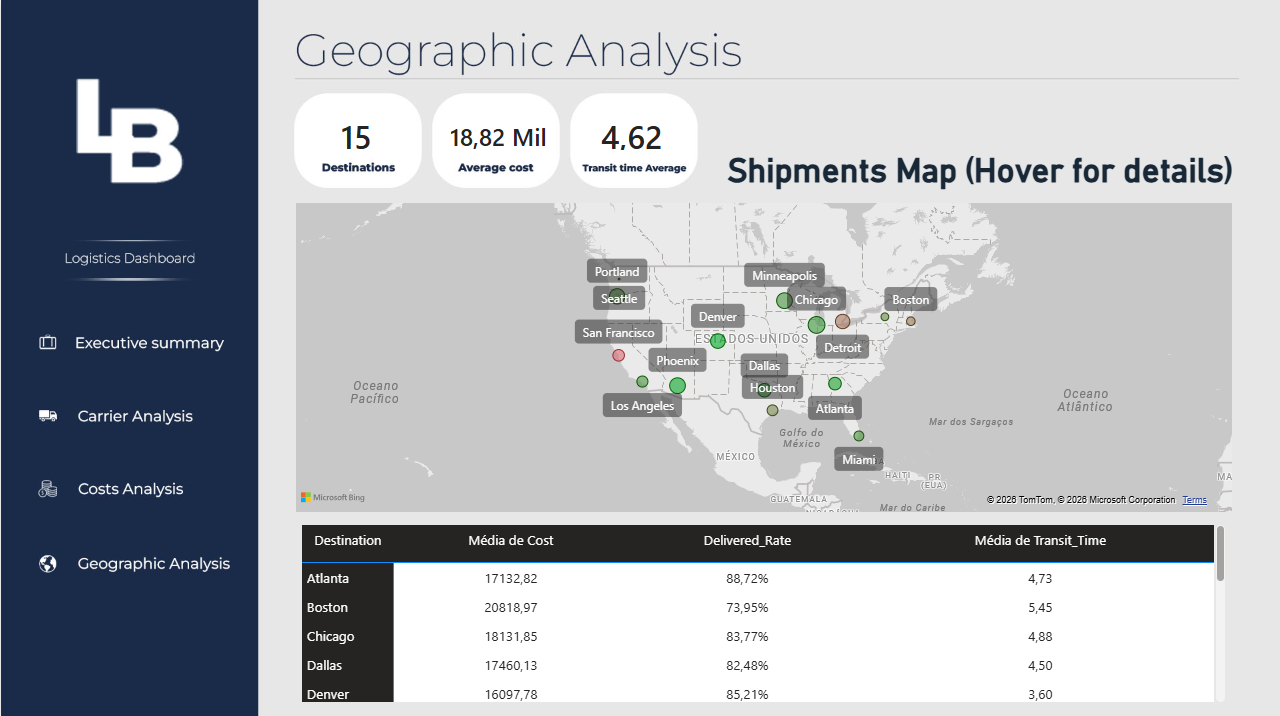

The dashboard page shown, as its layout file describes it:
{"tool":"powerbi","page":{"name":"Geographic Analysis","canvas":[1280,720],"ordinal":3},"visuals":[{"type":"map","fields":{"Category":["logistics_shipments_dataset.Destination"],"Size":["CountNonNull(logistics_shipments_dataset.Shipment_ID)"]},"box":[290,197.8,945.6,318.9],"z":0},{"type":"cardVisual","fields":{"Data":["Count(logistics_shipments_dataset.Destination)"]},"box":[311.1,101.1,96.7,66.7],"z":1000},{"type":"cardVisual","fields":{"Data":["Avg(logistics_shipments_dataset.Transit_Time)"]},"box":[570.9,101.2,131.3,66.1],"z":2000},{"type":"cardVisual","fields":{"Data":["Avg(logistics_shipments_dataset.Cost)"]},"box":[420.2,94.3,191.6,80.7],"z":3000},{"type":"pivotTable","fields":{"Rows":["logistics_shipments_dataset.Destination"],"Values":["Avg(logistics_shipments_dataset.Cost)","logistics_shipments_dataset.Delivered_Rate","Avg(logistics_shipments_dataset.Transit_Time)"]},"box":[295.6,520,933.3,186.7],"z":4000},{"type":"pageNavigator","box":[21,317,218,50],"z":5000},{"type":"pageNavigator","box":[21,388,218,50],"z":6000},{"type":"pageNavigator","box":[21.1,466.7,217.8,50],"z":7000},{"type":"textbox","box":[716.7,145.6,518.9,158.9],"z":7001}]}

Visuals, with their boxes on the page's 1280x720 design canvas (x1, y1, x2, y2). These are canvas units, not pixel positions in the 1280x716 screenshot, which may show the page scaled, cropped or inside an application window:
map - logistics_shipments_dataset.Destination x CountNonNull(logistics_shipments_dataset.Shipment_ID): (left=290, top=198, right=1236, bottom=517)
cardVisual - Count(logistics_shipments_dataset.Destination): (left=311, top=101, right=408, bottom=168)
cardVisual - Avg(logistics_shipments_dataset.Transit_Time): (left=571, top=101, right=702, bottom=167)
cardVisual - Avg(logistics_shipments_dataset.Cost): (left=420, top=94, right=612, bottom=175)
pivotTable - logistics_shipments_dataset.Destination x Avg(logistics_shipments_dataset.Cost): (left=296, top=520, right=1229, bottom=707)
pageNavigator: (left=21, top=317, right=239, bottom=367)
pageNavigator: (left=21, top=388, right=239, bottom=438)
pageNavigator: (left=21, top=467, right=239, bottom=517)
textbox: (left=717, top=146, right=1236, bottom=304)
